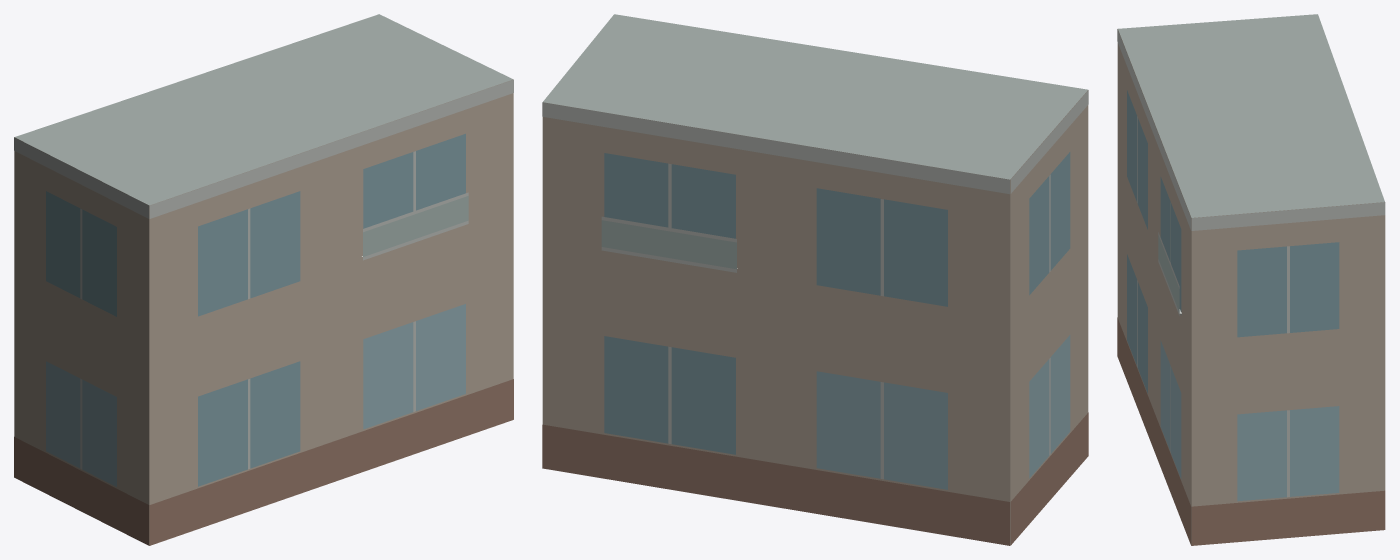
Rendered from survey-upis-32608904.glb.
The picture shows the model from 3 angles, left to right: view 1: azimuth 30°, elevation 25°; view 2: azimuth 150°, elevation 25°; view 3: azimuth 270°, elevation 25°; orthographic projection. The views are drawn at different scales.
Visible parts, largest first — view 1: survey-upis-32608904.tmp; view 2: survey-upis-32608904.tmp; view 3: survey-upis-32608904.tmp.
Boxes of the visible parts, x1,y1,x2,y2 form: survey-upis-32608904.tmp: (14, 14, 513, 545); survey-upis-32608904.tmp: (542, 14, 1088, 545); survey-upis-32608904.tmp: (1117, 14, 1385, 545).
Size of the model in its own units: 8.15 by 6.1 by 4.52.
